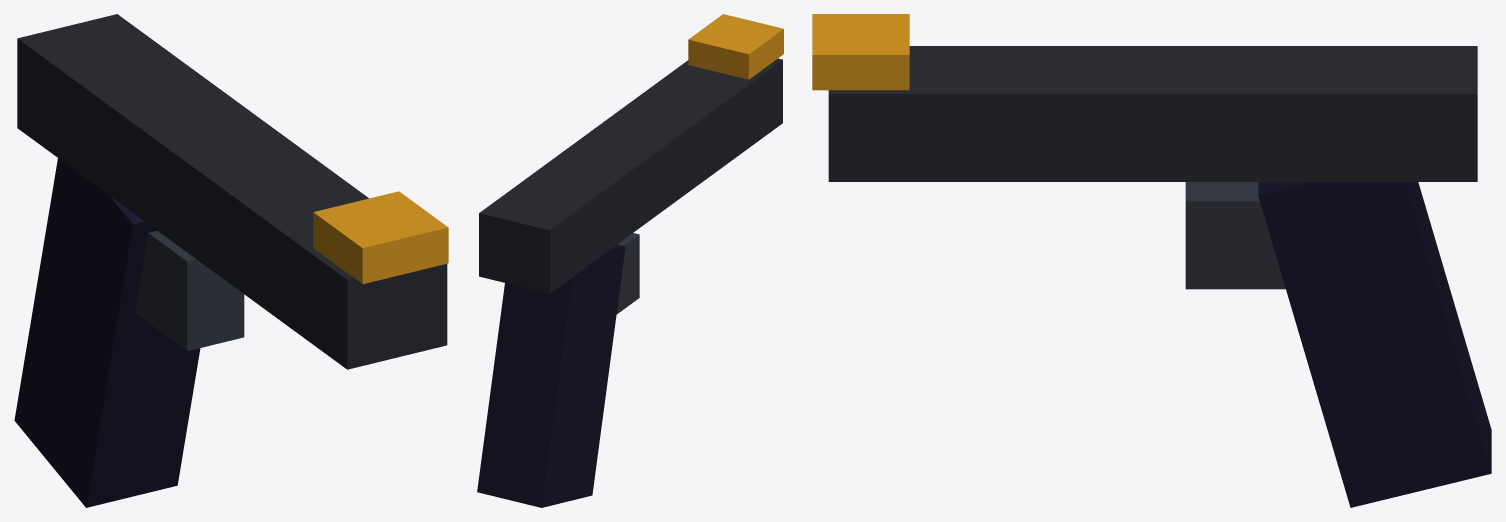
Rendered from kestrel_p9.glb.
3 views of the same model, side by side, from view 1: azimuth 30°, elevation 25°; view 2: azimuth 150°, elevation 25°; view 3: azimuth 270°, elevation 25° (orthographic). The views are drawn at different scales.
Visible parts, largest first — view 1: model; view 2: model; view 3: model.
Boxes of the visible parts, box(x1,y1,x2,y2) form: model: box(14, 14, 448, 507); model: box(477, 14, 783, 507); model: box(812, 14, 1491, 507).
Size of the model in its own units: 0.035 by 0.1535 by 0.2093.
